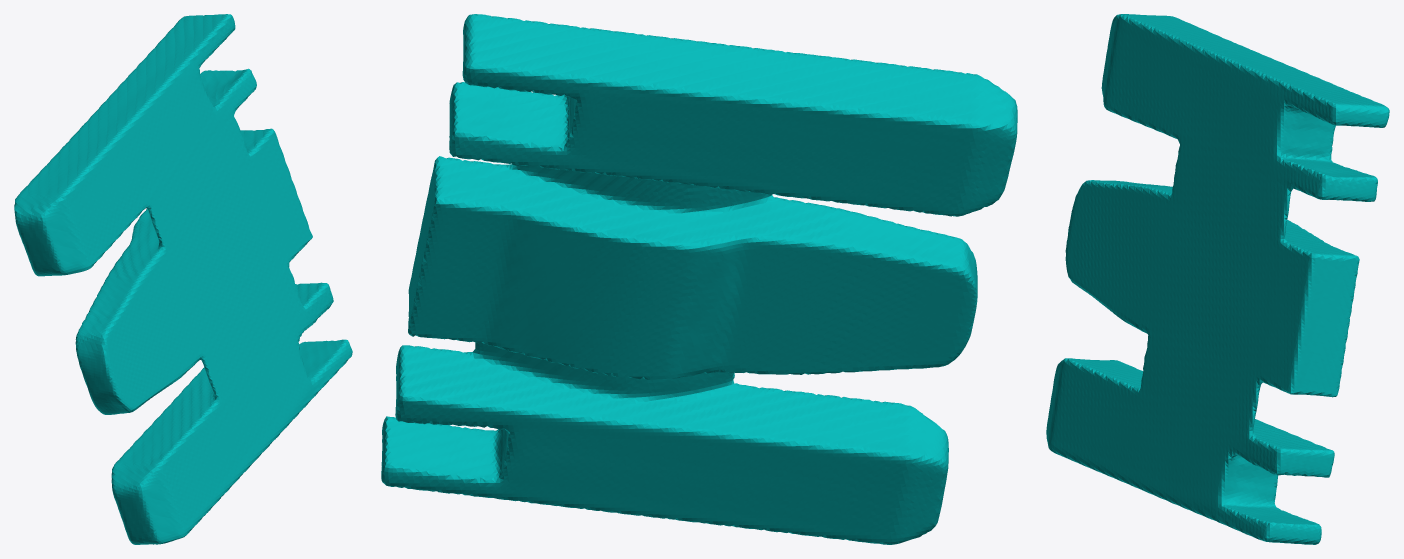
3 views of the same model, side by side, from view 1: azimuth 30°, elevation 25°; view 2: azimuth 150°, elevation 25°; view 3: azimuth 270°, elevation 25° (orthographic). The views are drawn at different scales.
Bounding box in the file's own units: 1.15 × 1.14 × 0.7759.
